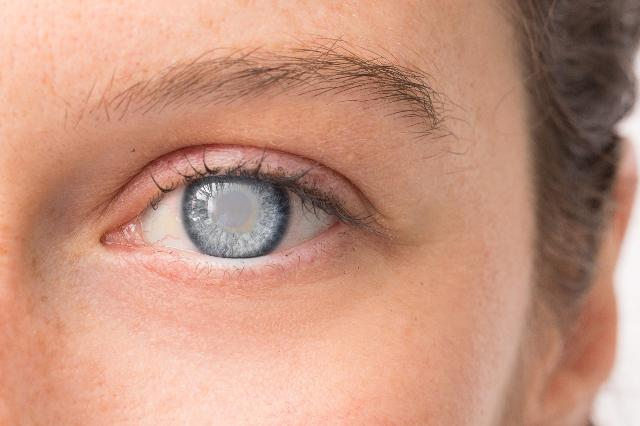eye: (181, 174, 291, 258)
